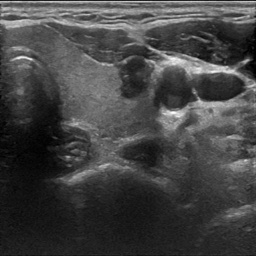mass: (119, 56, 155, 100)
